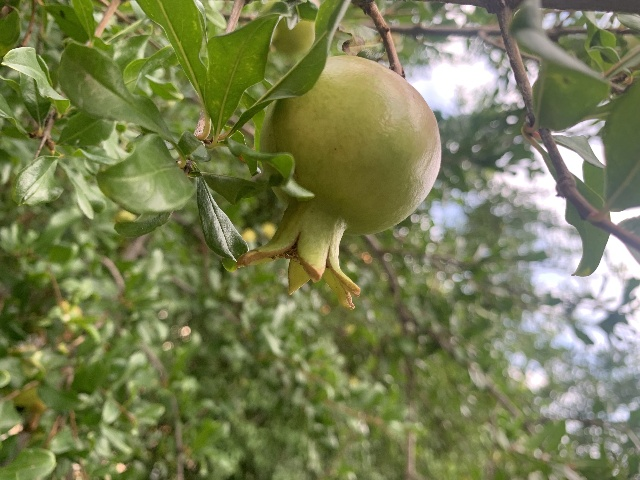mid-growth: (236, 54, 443, 309)
